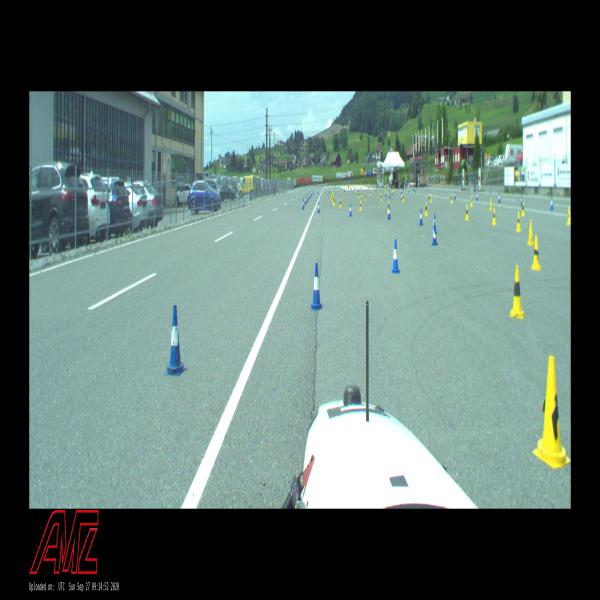blue_cone: (165, 305, 185, 376), (310, 263, 323, 310), (392, 240, 400, 274), (432, 222, 438, 246), (432, 214, 437, 234), (419, 209, 423, 226), (387, 206, 391, 219), (349, 203, 352, 216), (550, 198, 553, 210), (317, 202, 320, 213), (520, 194, 522, 207), (302, 200, 304, 210), (498, 194, 500, 203), (303, 198, 305, 207), (476, 193, 478, 200), (454, 192, 456, 199), (306, 195, 308, 202), (388, 192, 390, 198), (305, 196, 306, 204), (401, 192, 402, 200), (429, 192, 430, 199)
yellow_cone: (533, 355, 570, 469), (510, 266, 524, 318), (531, 235, 541, 270), (527, 220, 534, 245), (516, 212, 521, 232), (492, 207, 496, 225), (567, 208, 571, 224), (465, 205, 469, 220), (521, 202, 525, 216), (425, 202, 428, 216), (450, 193, 453, 204), (359, 200, 362, 211), (489, 199, 492, 210), (470, 196, 473, 206), (339, 199, 342, 209), (387, 200, 389, 213), (380, 194, 383, 201), (430, 194, 432, 202), (334, 198, 336, 206), (332, 196, 334, 204), (364, 193, 366, 200), (358, 192, 360, 198), (403, 194, 404, 202), (361, 191, 362, 197)
